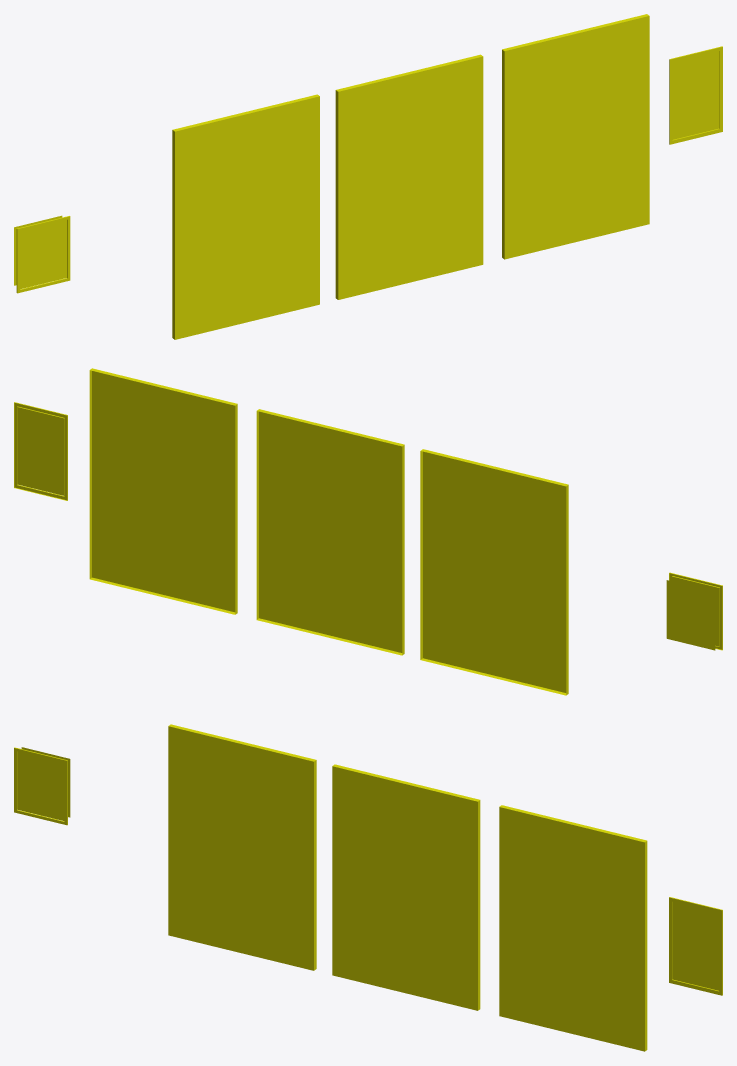
File: CUADROS.fbx
The picture shows the model from 3 angles, top to bottom: view 1: azimuth 30°, elevation 25°; view 2: azimuth 150°, elevation 25°; view 3: azimuth 330°, elevation 25°; orthographic projection.
Parts seen in each view (by area): view 1: CUADROS; view 2: CUADROS; view 3: CUADROS.
Boxes of the visible parts, x1,y1,x2,y2 form: CUADROS: [14, 14, 722, 339]; CUADROS: [14, 368, 722, 695]; CUADROS: [14, 724, 722, 1051].
Size of the model in its own units: 6.23 by 1.76 by 0.1161.
